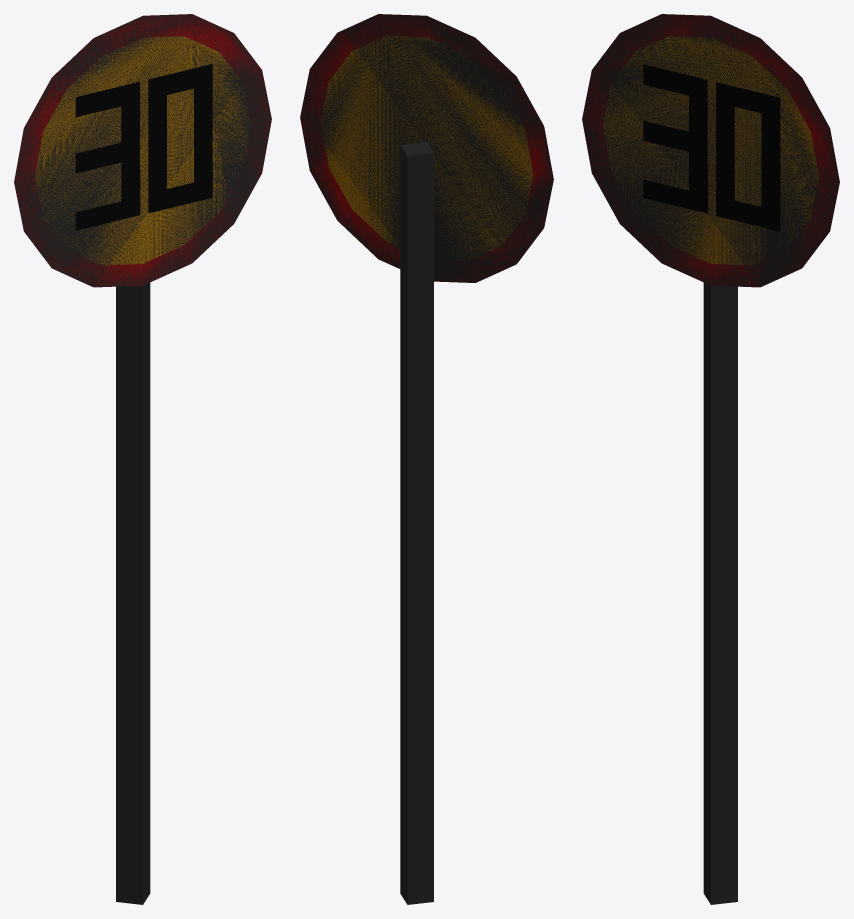
Rendered from 30kmh.obj.
The picture shows the model from 3 angles, left to right: view 1: azimuth 30°, elevation 25°; view 2: azimuth 150°, elevation 25°; view 3: azimuth 330°, elevation 25°; orthographic projection.
Visible parts, largest first — view 1: Cylinder.001; view 2: Cylinder.001; view 3: Cylinder.001.
Part boxes in pixels (x1,y1,x2,y2): Cylinder.001: (14,14,271,904); Cylinder.001: (300,14,553,904); Cylinder.001: (582,14,839,904).
Size of the model in its own units: 0.8957 by 2.95 by 0.1199.
